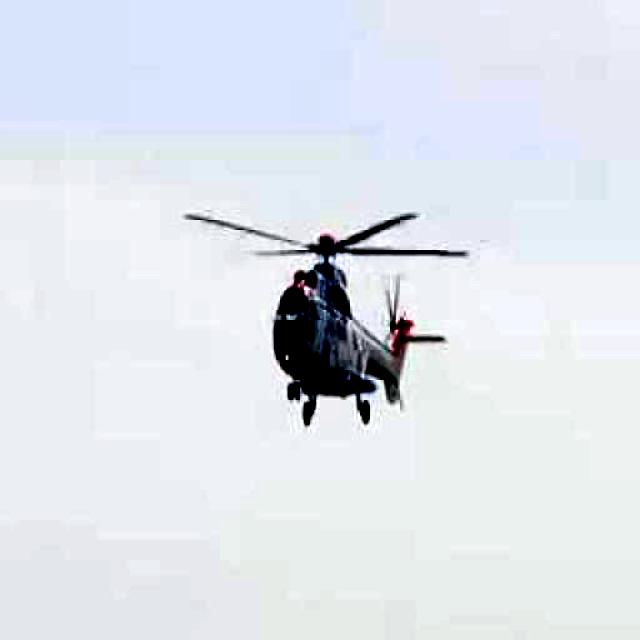drone: (156, 179, 496, 445)
